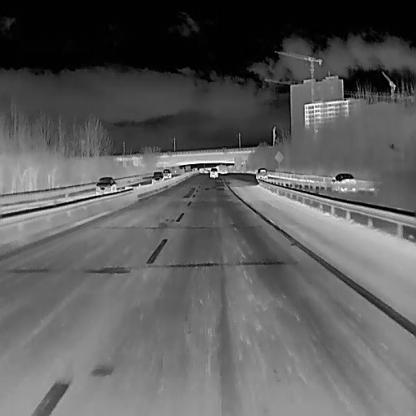car: (330, 172, 355, 188), (95, 176, 116, 192), (151, 170, 164, 182), (255, 167, 267, 179), (209, 167, 218, 177), (162, 168, 171, 177)
